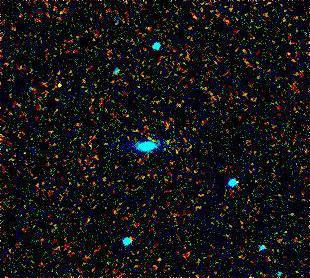star: (44, 65, 74, 95)
